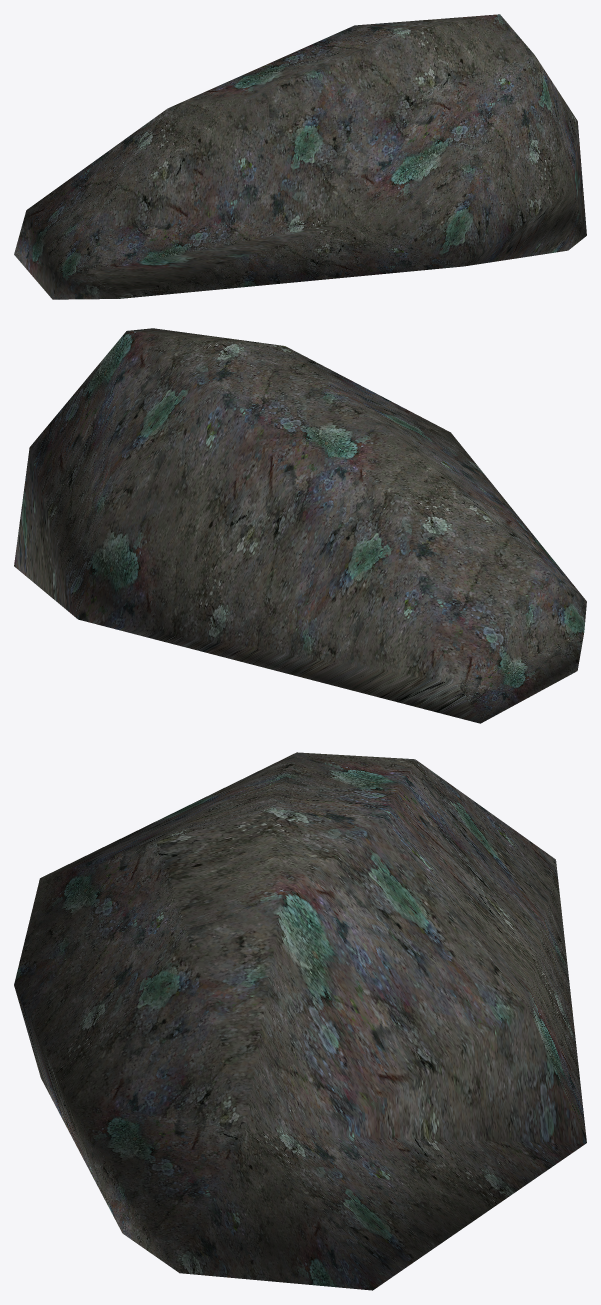
The model's file is rock_forestriverrock_med_l4.fbx.
The picture shows the model from 3 angles, top to bottom: view 1: azimuth 30°, elevation 25°; view 2: azimuth 150°, elevation 25°; view 3: azimuth 270°, elevation 25°; orthographic projection. The views are drawn at different scales.
Parts seen in each view (by area): view 1: mesh_node; view 2: mesh_node; view 3: mesh_node.
Boxes of the visible parts, x1,y1,x2,y2 form: mesh_node: (14,14,586,299); mesh_node: (14,328,586,723); mesh_node: (14,752,586,1290).
Bounding box in the file's own units: 1.63 × 0.679 × 1.01.
Materials: 1 (1 with a texture image).
